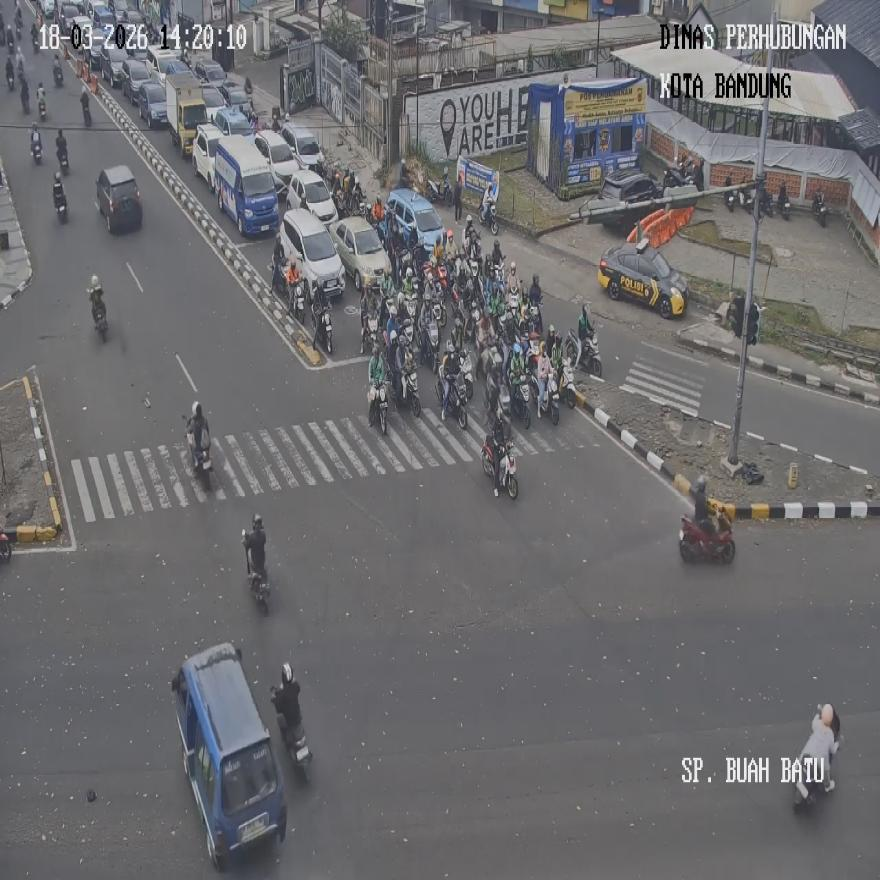Mobil: (171, 642, 288, 870)
Motor: (792, 705, 840, 809), (270, 686, 312, 778), (679, 507, 735, 564), (482, 432, 518, 498), (243, 528, 270, 612), (564, 328, 602, 378), (436, 372, 467, 430), (536, 371, 560, 426), (510, 374, 532, 429), (419, 316, 440, 372), (399, 363, 421, 414), (555, 356, 577, 407), (192, 438, 213, 491), (368, 379, 388, 434), (314, 305, 332, 354), (360, 312, 378, 356), (288, 272, 304, 321), (91, 293, 107, 341), (52, 174, 67, 224), (480, 196, 498, 234), (812, 190, 827, 228), (30, 127, 44, 164), (723, 175, 737, 211), (758, 188, 774, 218), (55, 140, 69, 174), (80, 88, 92, 126), (777, 186, 790, 220), (0, 528, 11, 562), (6, 56, 15, 90), (37, 89, 47, 119), (53, 56, 63, 86), (32, 24, 40, 54)
